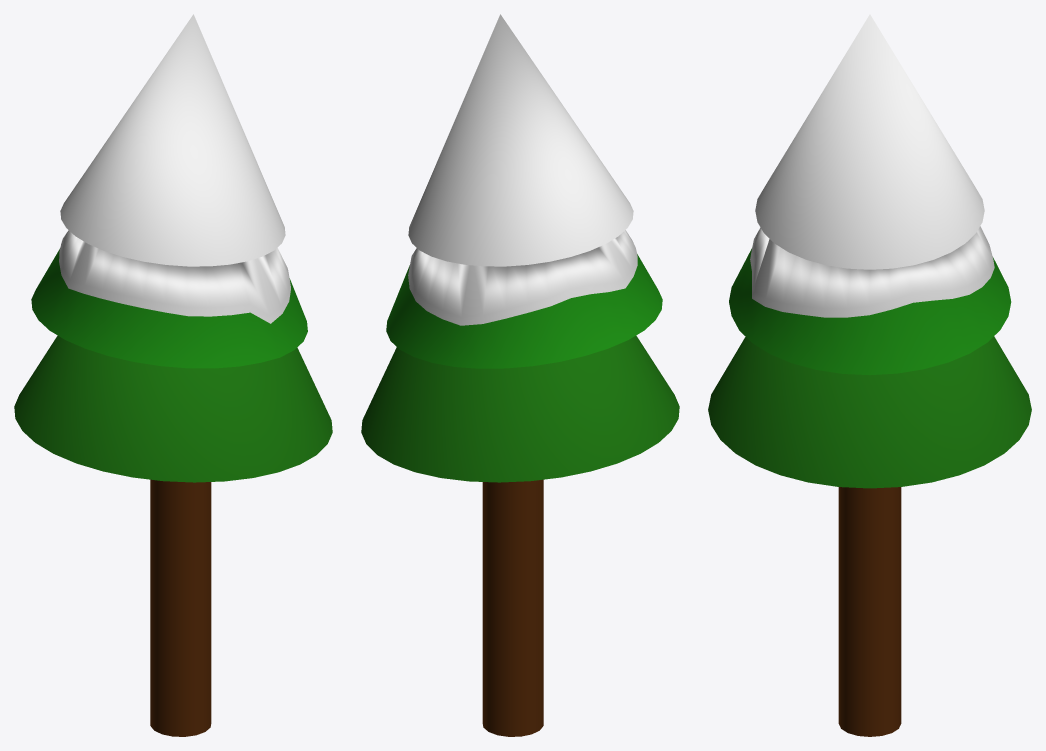
File: snow tree 2.fbx
3 renders of one model, left to right at view 1: azimuth 30°, elevation 25°; view 2: azimuth 150°, elevation 25°; view 3: azimuth 270°, elevation 25°, orthographic.
Visible parts, largest first — view 1: snow tree 2; view 2: snow tree 2; view 3: snow tree 2.
Boxes of the visible parts, box(x1,y1,x2,y2) form: snow tree 2: box(14, 14, 332, 736); snow tree 2: box(361, 14, 679, 736); snow tree 2: box(708, 14, 1031, 736).
Bounding box in the file's own units: 285 × 698 × 286.
